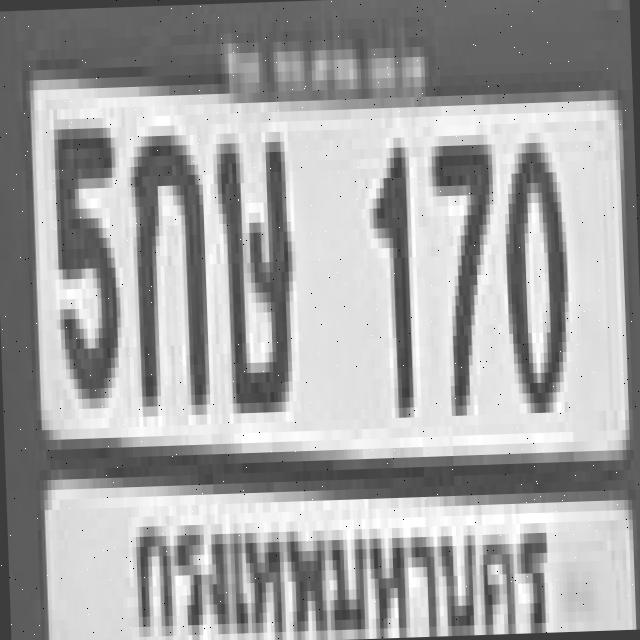0: (498, 132, 568, 404)
1: (366, 137, 409, 408)
10GorGai: (125, 125, 206, 396)
48SorRueSi: (212, 122, 292, 404)
5: (50, 117, 119, 389)
7: (427, 134, 496, 406)
Bangkok: (117, 487, 557, 640)
